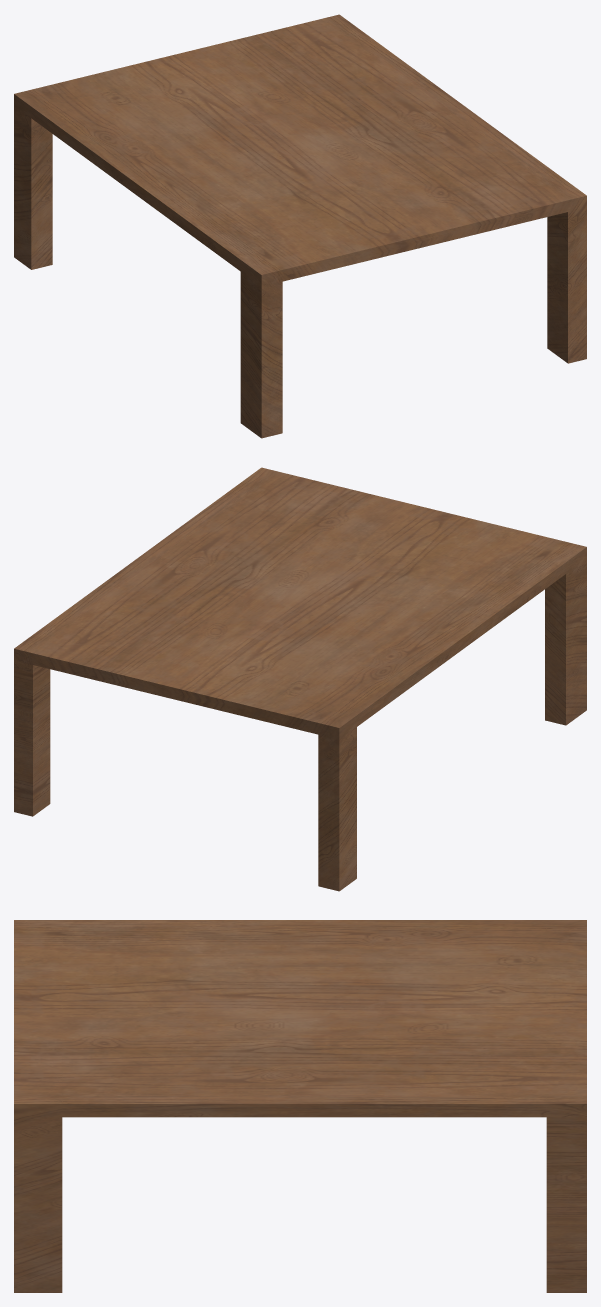
File: mesa_comedor.fbx
3 renders of one model, top to bottom at view 1: azimuth 30°, elevation 25°; view 2: azimuth 150°, elevation 25°; view 3: azimuth 270°, elevation 25°, orthographic. The views are drawn at different scales.
Visible parts, largest first — view 1: mesa_comedor; view 2: mesa_comedor; view 3: mesa_comedor.
Boxes of the visible parts, x1,y1,x2,y2 form: mesa_comedor: (14, 14, 586, 438); mesa_comedor: (14, 467, 586, 891); mesa_comedor: (14, 920, 586, 1292).
Bounding box in the file's own units: 307 × 147 × 404.
